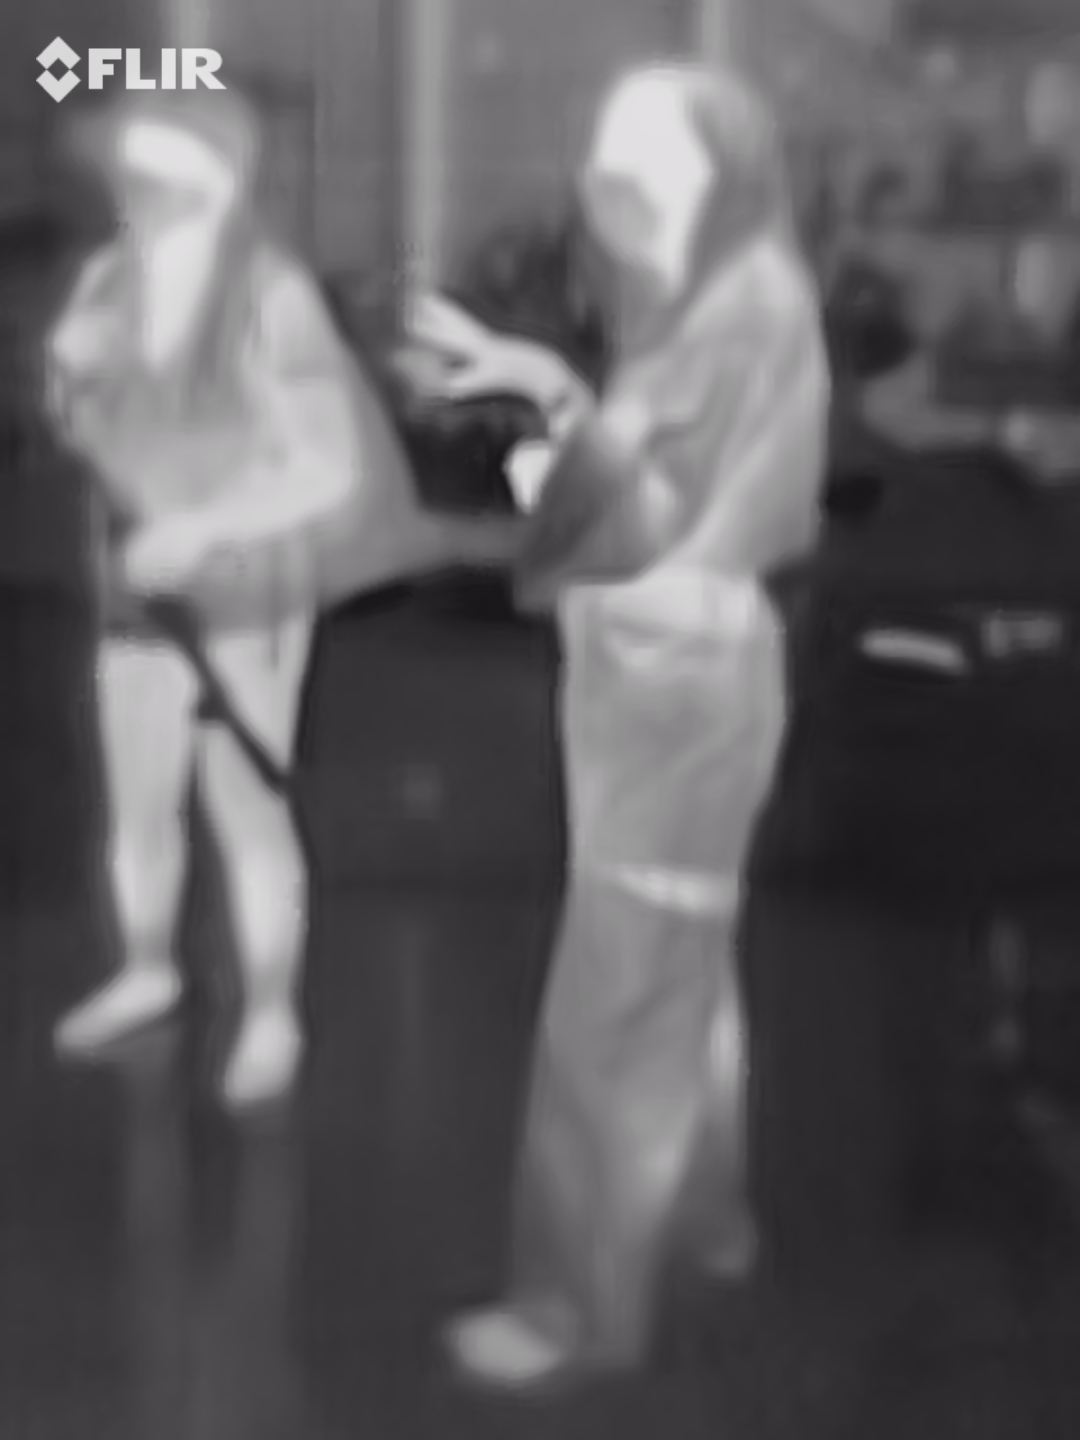head: (562, 63, 788, 275), (110, 80, 271, 236)
